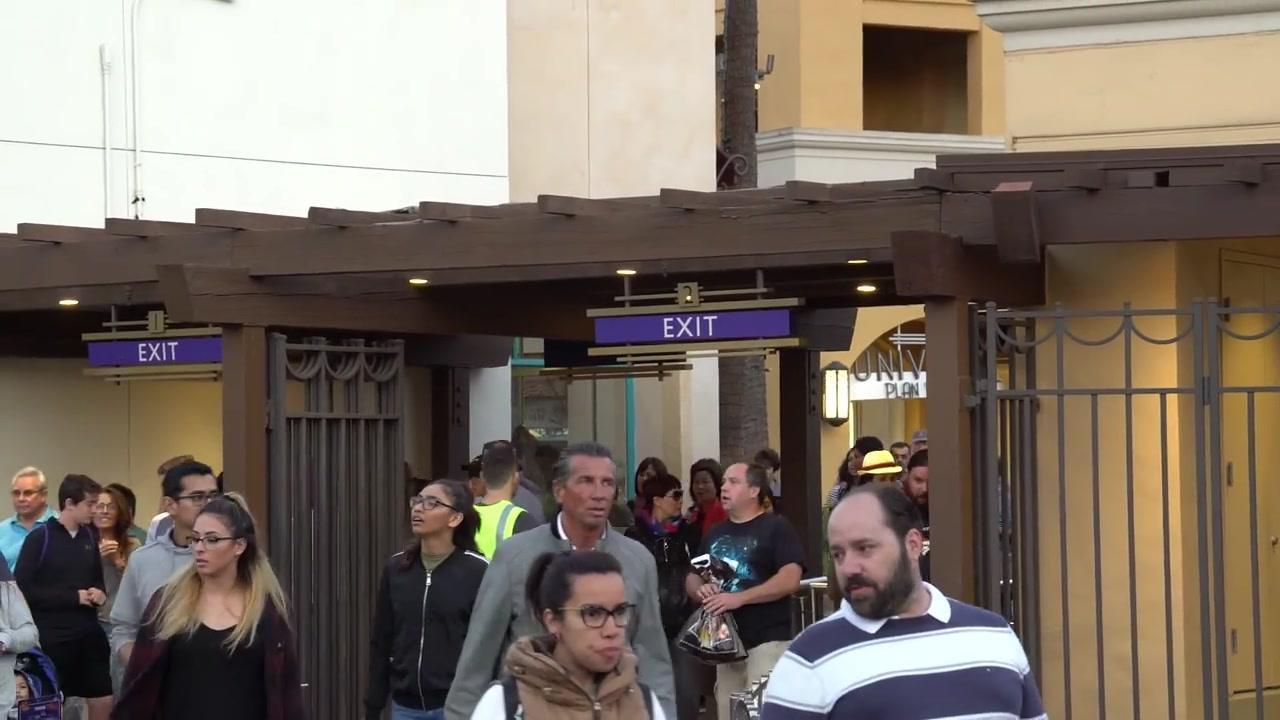vest: (473, 497, 531, 562)
